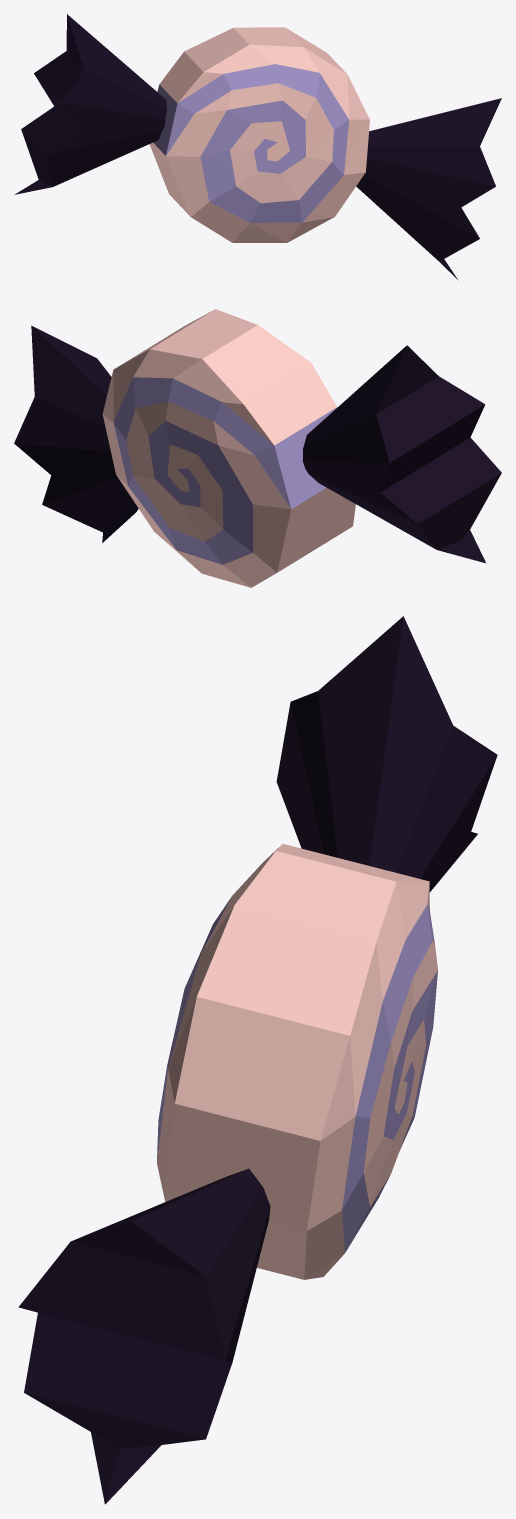
File: Halloween.SpiralCandy.fbx
3 views of the same model, one above another, from view 1: azimuth 30°, elevation 25°; view 2: azimuth 150°, elevation 25°; view 3: azimuth 270°, elevation 25° (orthographic). The views are drawn at different scales.
Visible parts, largest first — view 1: SpiralCandy; view 2: SpiralCandy; view 3: SpiralCandy.
Part boxes in pixels (x1,y1,x2,y2): SpiralCandy: [14, 14, 501, 280]; SpiralCandy: [14, 309, 501, 587]; SpiralCandy: [18, 616, 497, 1504].
Bounding box in the file's own units: 150 × 97.57 × 73.16.
